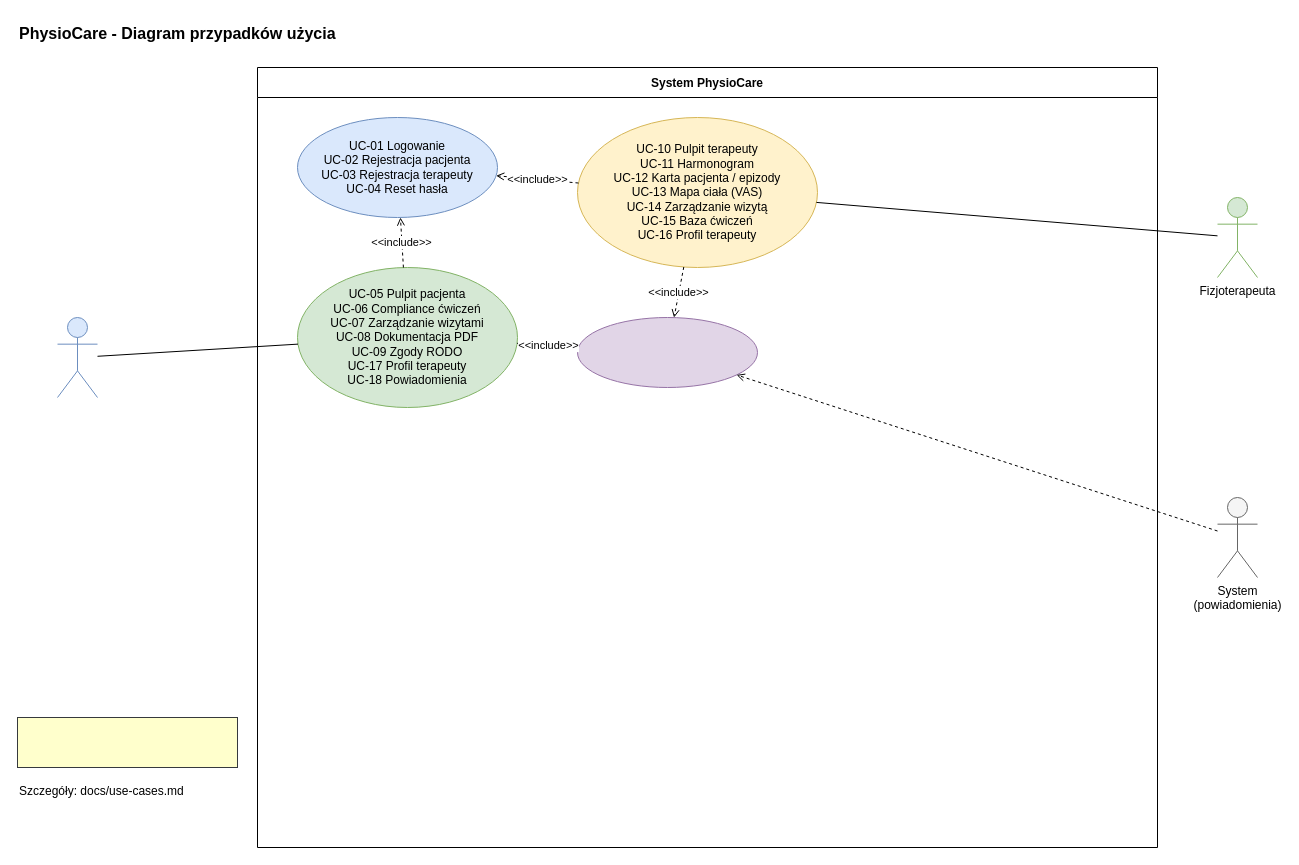
The diagram is 1299 pixels wide and 865 high, and some of its shapes have lost their labels. Each missing label, with the box of its shape:
Pacjent: (56, 316, 98, 398)
Pacjent -> Mobile (Expo) Fizjoterapeuta -> Web (React): (16, 716, 238, 768)
Wspólne API (wizyty, pliki, auth): (576, 316, 758, 388)
